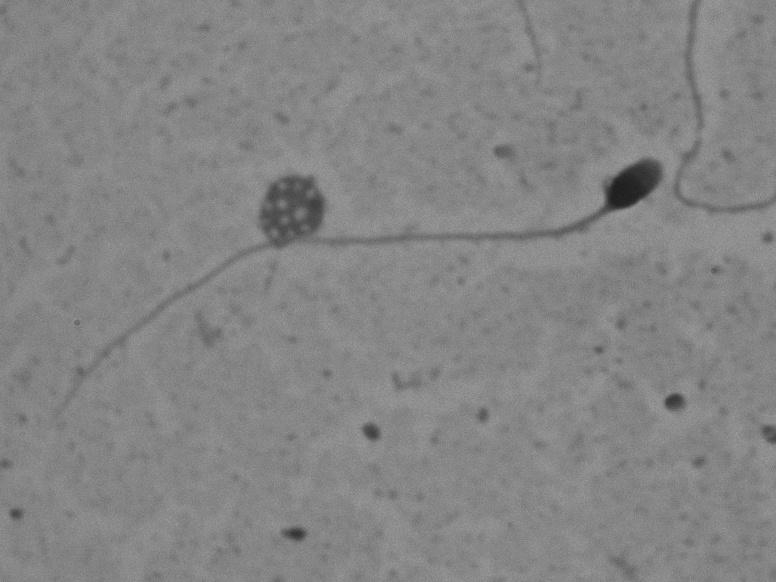Normal: (25, 136, 671, 436)
